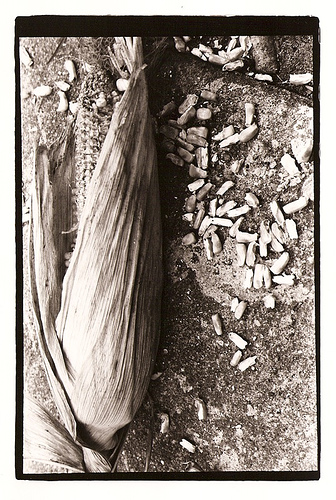corn: (65, 99, 132, 432)
